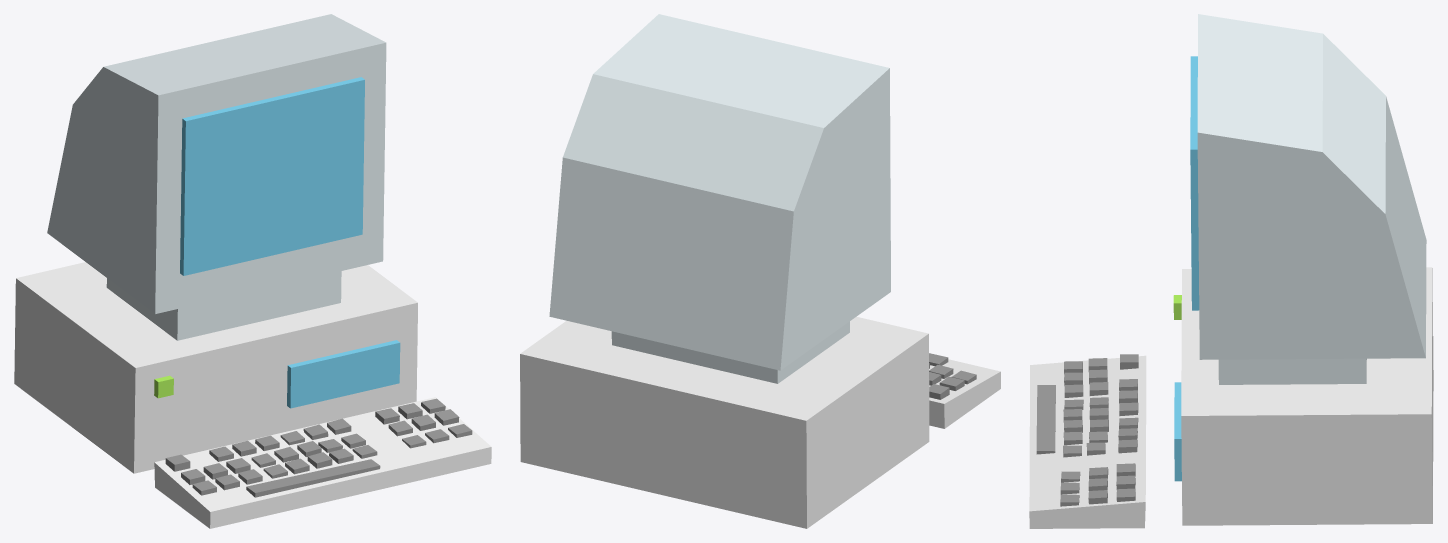
Rendered from Computer.glb.
The picture shows the model from 3 angles, left to right: view 1: azimuth 30°, elevation 25°; view 2: azimuth 150°, elevation 25°; view 3: azimuth 270°, elevation 25°; orthographic projection. The views are drawn at different scales.
Parts seen in each view (by area): view 1: group24878451; view 2: group24878451; view 3: group24878451.
Part boxes in pixels (box(x1,y1,x2,y2)): group24878451: box(14, 14, 491, 528); group24878451: box(520, 14, 1000, 528); group24878451: box(1029, 14, 1433, 528).
Bounding box in the file's own units: 0.3654 × 0.4557 × 0.4316.
